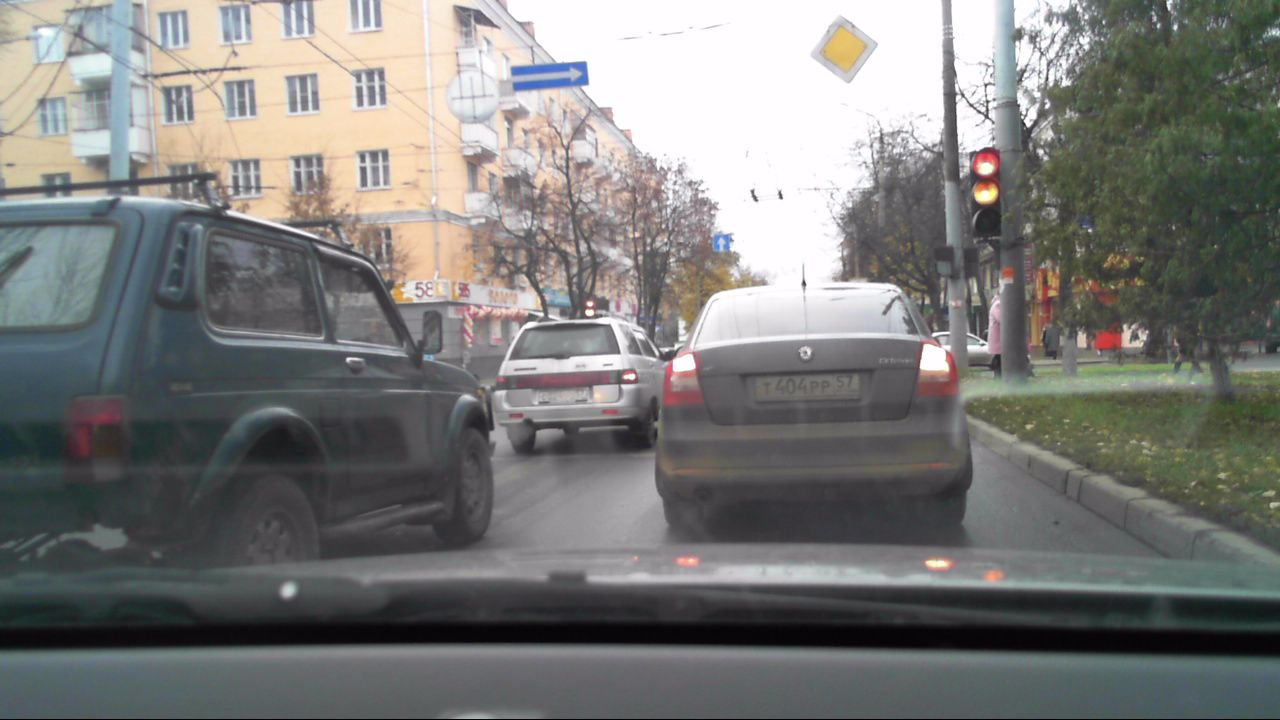One-Way Traffic: (511, 61, 588, 92)
